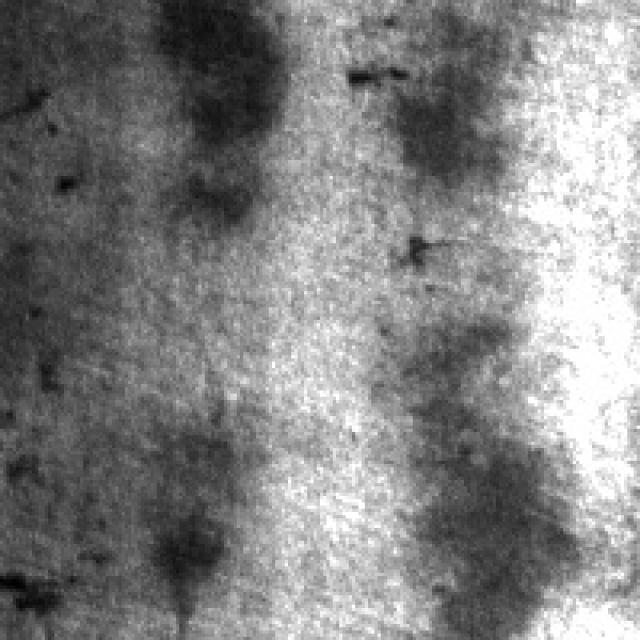patches: (416, 326, 582, 637), (387, 0, 525, 189), (144, 413, 262, 621), (157, 0, 301, 163)
